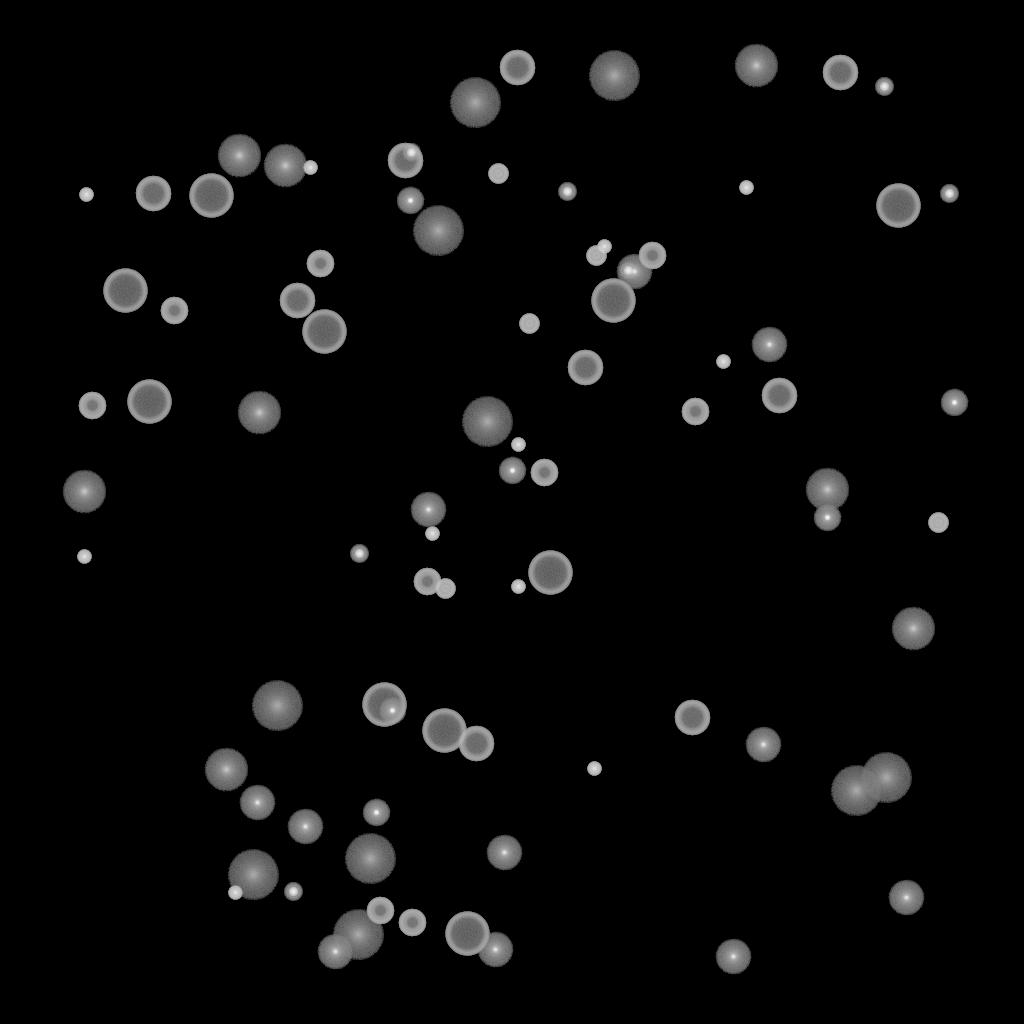depth:-10: (940, 389, 968, 417), (498, 457, 526, 485), (378, 697, 406, 725), (362, 799, 390, 827), (813, 504, 841, 532), (396, 187, 424, 215)
depth:-20: (558, 183, 576, 201), (940, 185, 958, 203), (875, 78, 893, 96), (402, 144, 420, 162), (619, 262, 637, 280), (350, 545, 368, 563), (284, 883, 302, 901)
depth:-30: (587, 762, 601, 776), (228, 886, 242, 900), (739, 181, 753, 195), (79, 188, 93, 202), (77, 550, 91, 564), (303, 161, 317, 175), (597, 240, 611, 254), (511, 580, 525, 594), (425, 527, 439, 541), (511, 438, 525, 452), (716, 355, 730, 369)
depth:-40: (586, 246, 606, 266), (435, 579, 455, 599), (928, 513, 948, 533), (519, 314, 539, 334), (488, 164, 508, 184)
depth:-50: (530, 459, 558, 487), (78, 392, 106, 420), (366, 897, 394, 925), (398, 909, 426, 937), (306, 250, 334, 278), (681, 398, 709, 426), (638, 242, 666, 270), (413, 568, 441, 596), (160, 297, 188, 325)
depth:-60: (135, 176, 171, 212), (674, 700, 710, 736), (279, 283, 315, 319), (761, 378, 797, 414), (567, 350, 603, 386), (822, 55, 858, 91), (458, 726, 494, 762), (499, 50, 535, 86), (387, 143, 423, 179)
depth:-70: (876, 184, 920, 228), (302, 310, 346, 354), (103, 269, 147, 313), (362, 683, 406, 727), (422, 709, 466, 753), (528, 551, 572, 595), (127, 380, 171, 424), (445, 912, 489, 956), (189, 174, 233, 218), (591, 279, 635, 323)
depth:0: (287, 809, 323, 845), (715, 939, 751, 975), (745, 727, 781, 763), (410, 492, 446, 528), (239, 785, 275, 821), (477, 932, 513, 968), (888, 880, 924, 916), (616, 254, 652, 290), (317, 934, 353, 970), (751, 327, 787, 363), (486, 835, 522, 871)
depth:10: (734, 44, 778, 88), (217, 134, 261, 178), (237, 391, 281, 435), (204, 748, 248, 792), (62, 470, 106, 514), (805, 468, 849, 512), (891, 607, 935, 651), (263, 144, 307, 188)
depth:20: (251, 681, 303, 731), (830, 766, 882, 816), (860, 753, 912, 803), (449, 78, 501, 128), (332, 910, 384, 960), (344, 834, 396, 884), (588, 51, 640, 101), (461, 397, 513, 447), (412, 206, 464, 256), (227, 850, 279, 900)
